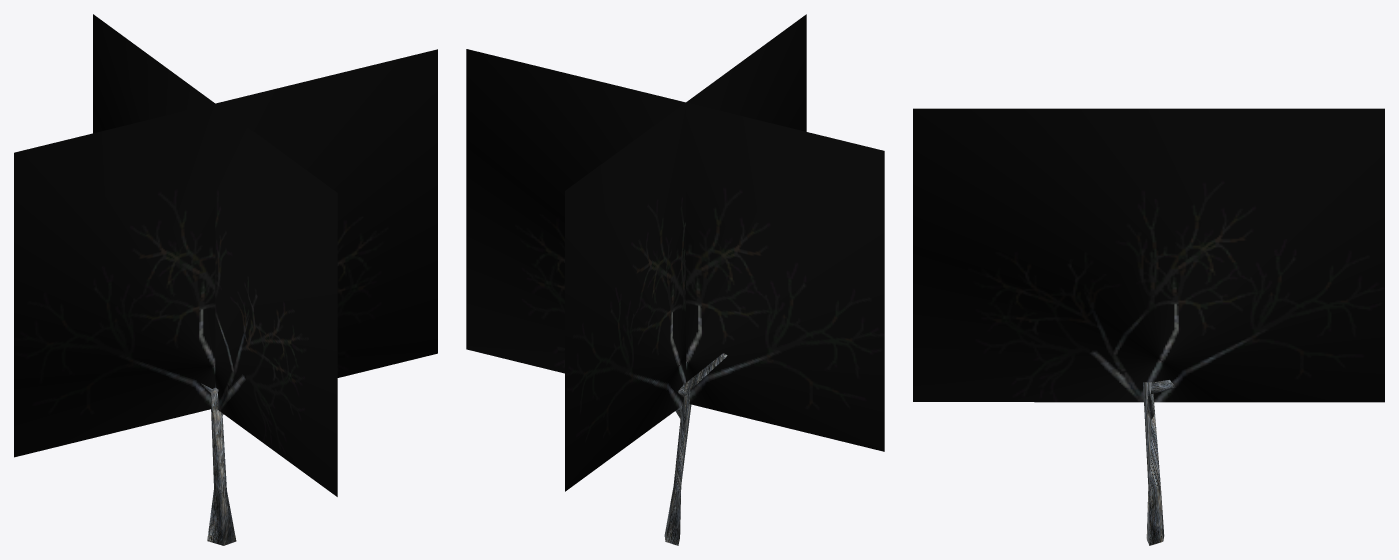
Rendered from decd_scorched_tallbirch_l3.fbx.
3 renders of one model, left to right at view 1: azimuth 30°, elevation 25°; view 2: azimuth 150°, elevation 25°; view 3: azimuth 270°, elevation 25°, orthographic. The views are drawn at different scales.
Parts seen in each view (by area): view 1: mesh_node; view 2: mesh_node; view 3: mesh_node.
Part boxes in pixels (x1=…): mesh_node: x1=14, y1=14, x2=437, y2=545; mesh_node: x1=466, y1=14, x2=884, y2=545; mesh_node: x1=913, y1=108, x2=1384, y2=545.
Size of the model in its own units: 59 by 58.96 by 59.
